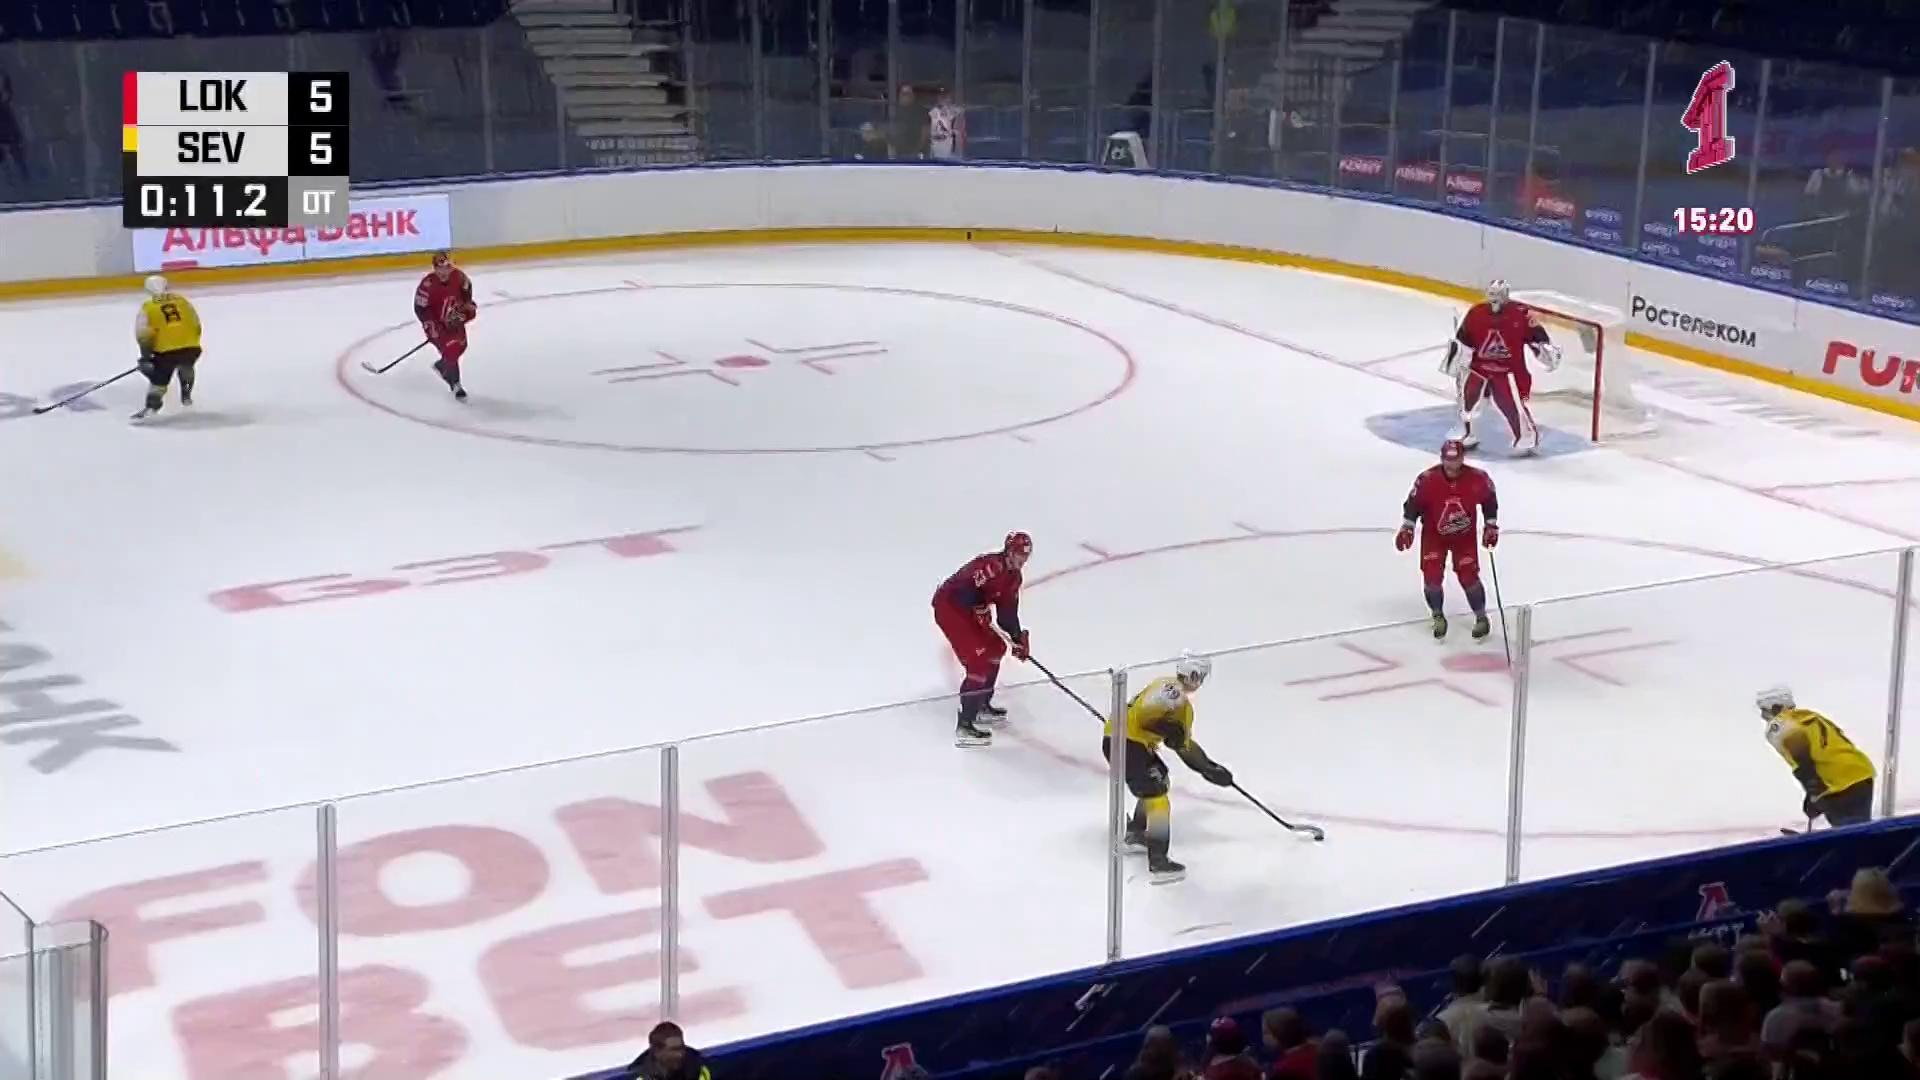ball: (1313, 834, 1325, 843)
